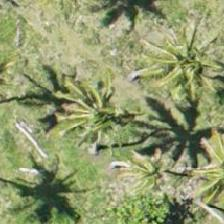coconut_tree: (45, 61, 135, 151), (143, 10, 223, 100), (168, 112, 223, 202)
